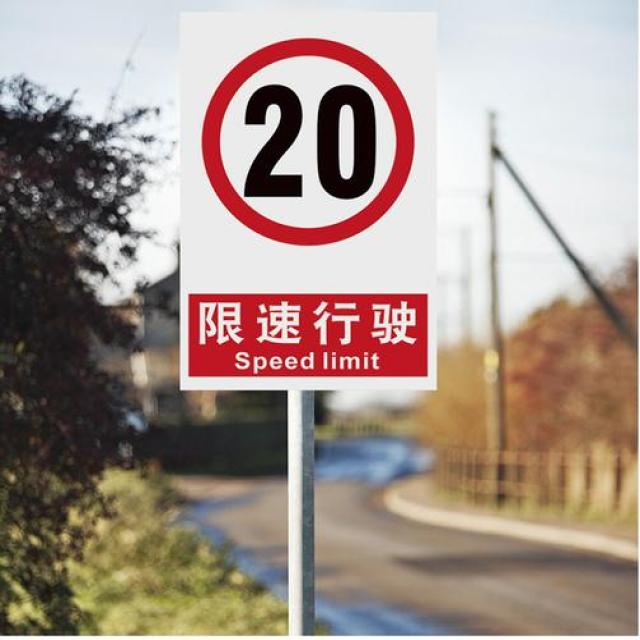speed limit 20: (201, 39, 417, 249)
